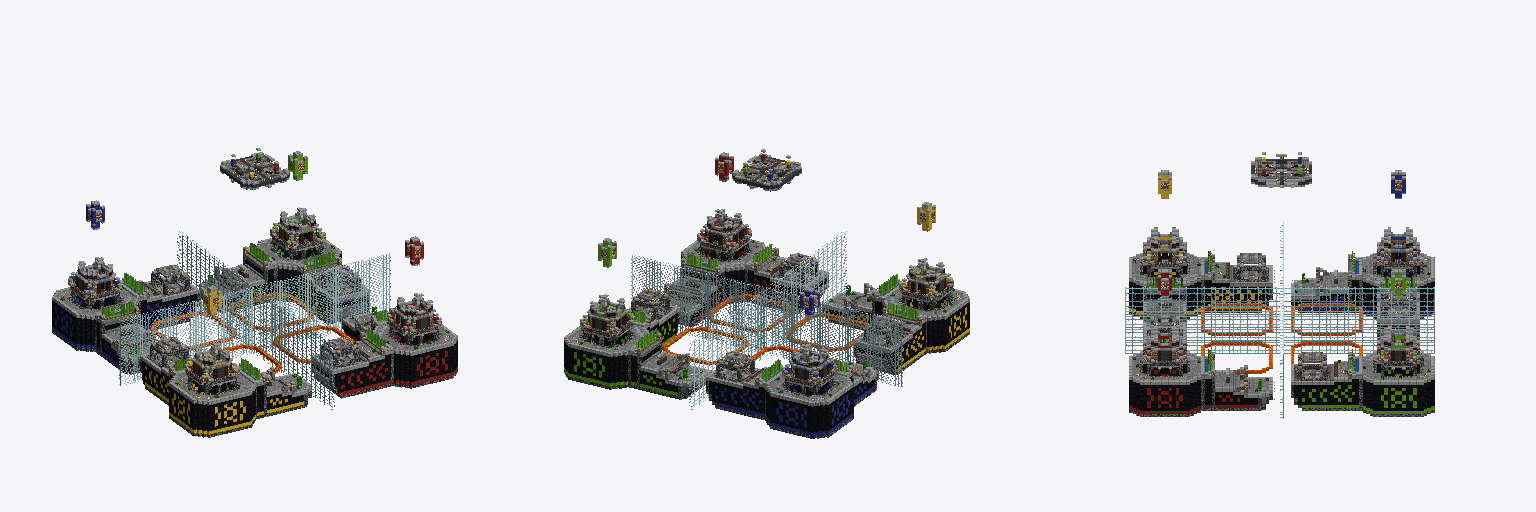
3 renders of one model, left to right at view 1: azimuth 30°, elevation 25°; view 2: azimuth 150°, elevation 25°; view 3: azimuth 270°, elevation 25°, orthographic.
Size of the model in its own units: 87 by 59.5 by 86.
53 materials, 52 textured.